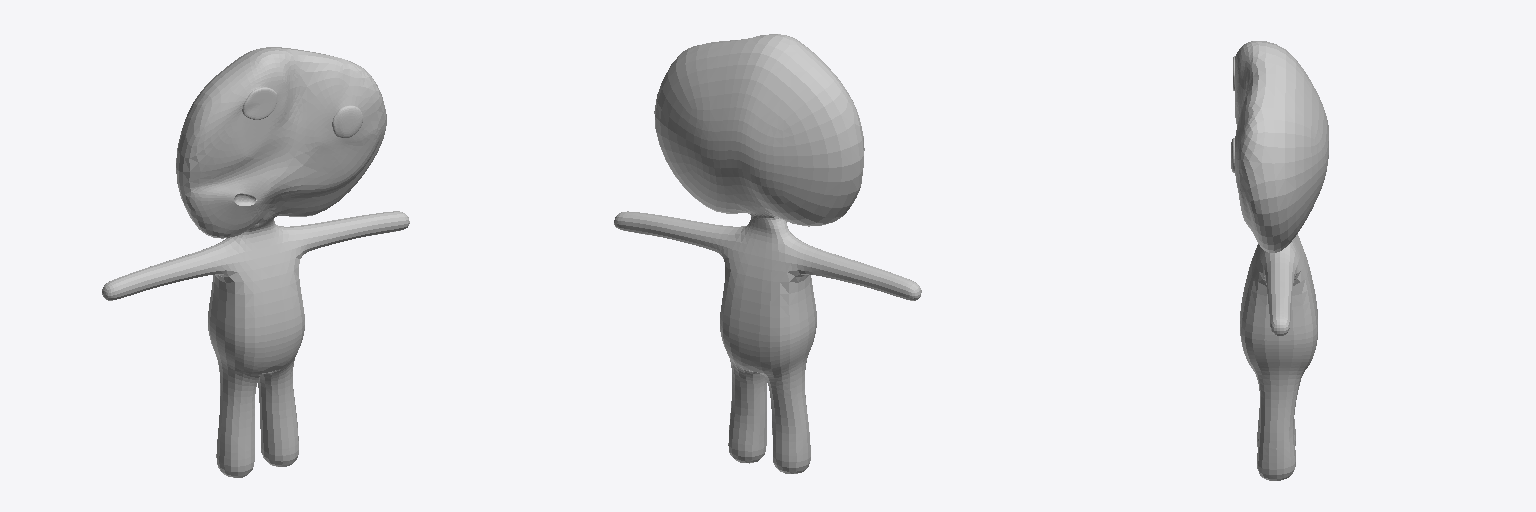
File: kodama.obj
3 views of the same model, side by side, from view 1: azimuth 30°, elevation 25°; view 2: azimuth 150°, elevation 25°; view 3: azimuth 270°, elevation 25° (orthographic).
Visible parts, largest first — view 1: kodama, eye2, eye1; view 2: kodama; view 3: kodama.
Boxes of the visible parts, x1,y1,x2,y2 form: kodama: [102, 47, 409, 477]; eye2: [242, 87, 276, 119]; eye1: [332, 105, 362, 137]; kodama: [614, 34, 921, 473]; kodama: [1235, 41, 1328, 480].
Bounding box in the file's own units: 6.06 × 8.06 × 1.7.